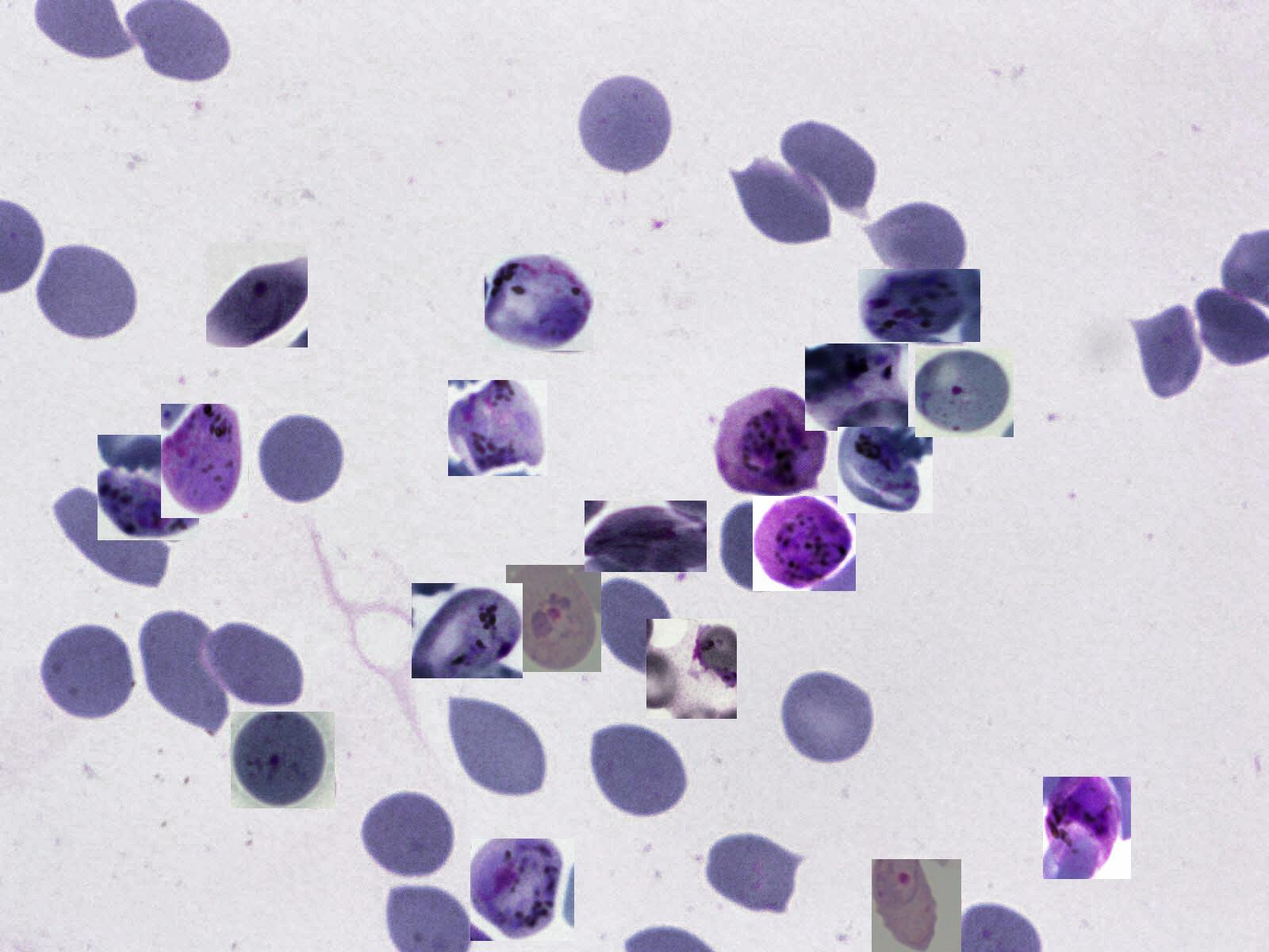Infected: (712, 386, 830, 499), (206, 243, 308, 347), (470, 839, 574, 941), (98, 435, 199, 540), (485, 254, 594, 351), (412, 583, 523, 678), (506, 565, 601, 672), (231, 712, 335, 808), (161, 404, 248, 518), (753, 496, 856, 591), (448, 380, 547, 476), (646, 619, 737, 719), (1043, 777, 1131, 879), (805, 344, 908, 431), (858, 269, 980, 342), (915, 348, 1014, 437), (585, 501, 707, 572), (872, 859, 961, 952), (838, 427, 933, 513)
Uninfected: (52, 484, 173, 591), (569, 69, 677, 175), (34, 240, 141, 342), (137, 608, 221, 736), (446, 693, 549, 797), (585, 718, 692, 818), (776, 666, 880, 768), (730, 149, 839, 243), (36, 620, 136, 722), (355, 783, 457, 881), (778, 117, 878, 214), (861, 198, 973, 283), (255, 407, 349, 508), (718, 497, 811, 599), (701, 829, 807, 918), (595, 576, 677, 678), (205, 622, 302, 708), (1127, 295, 1206, 397)
